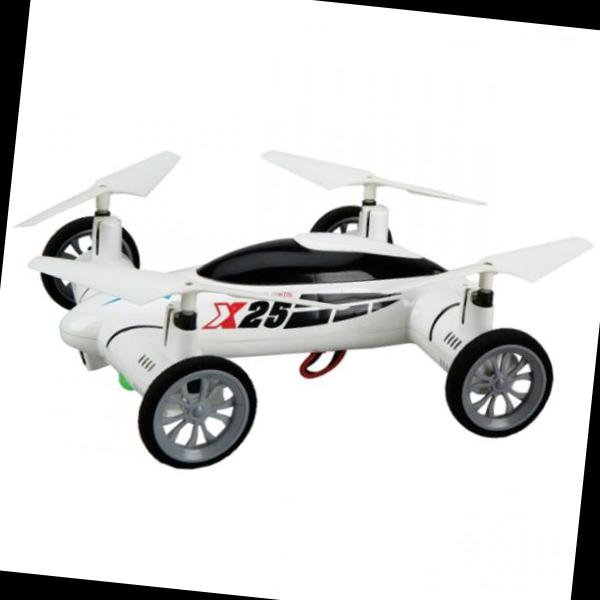drone: (6, 111, 599, 421)
